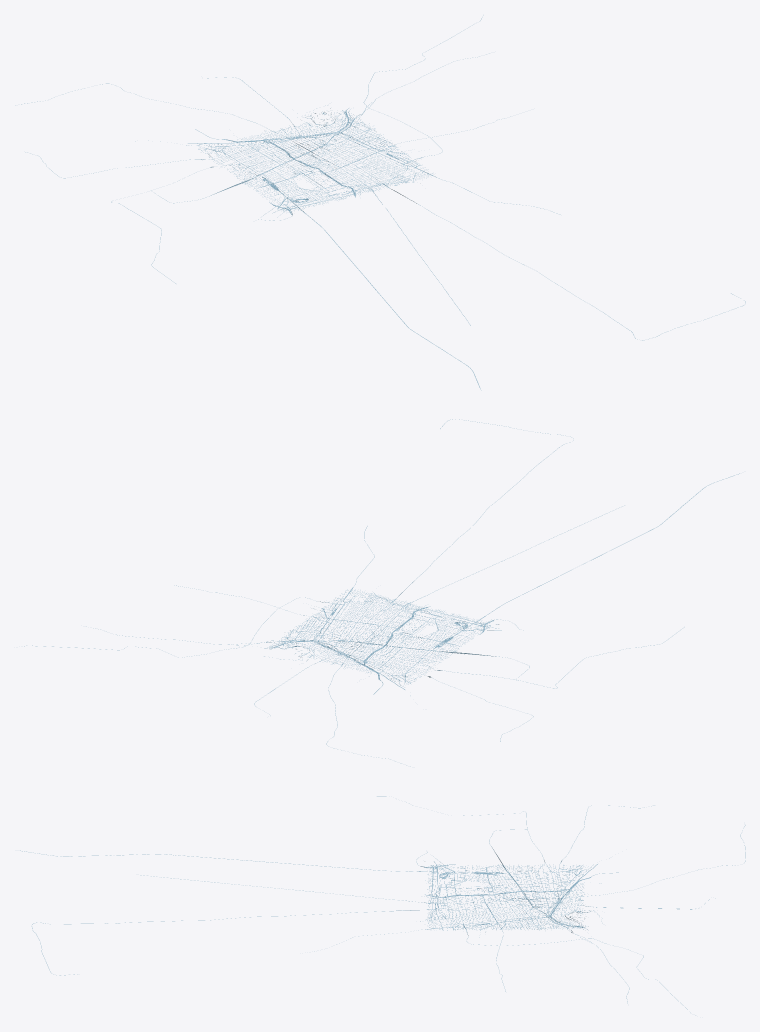
The model's file is roads.glb.
3 renders of one model, top to bottom at view 1: azimuth 30°, elevation 25°; view 2: azimuth 150°, elevation 25°; view 3: azimuth 270°, elevation 25°, orthographic. The views are drawn at different scales.
Visible parts, largest first — view 1: roads; view 2: roads; view 3: roads.
Part boxes in pixels (left/top/right/bottom): roads: left=15, top=15, right=745, bottom=390; roads: left=24, top=419, right=739, bottom=766; roads: left=20, top=796, right=745, bottom=1015.
Bounding box in the file's own units: 21064 × 348 × 29352.
